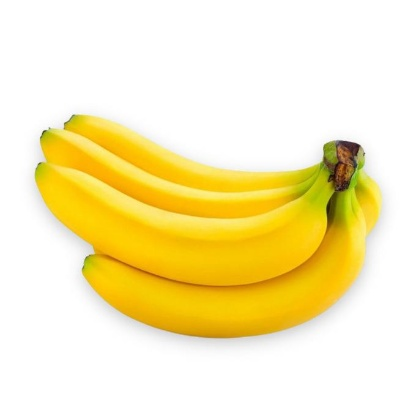chuoi: (33, 71, 395, 350)
